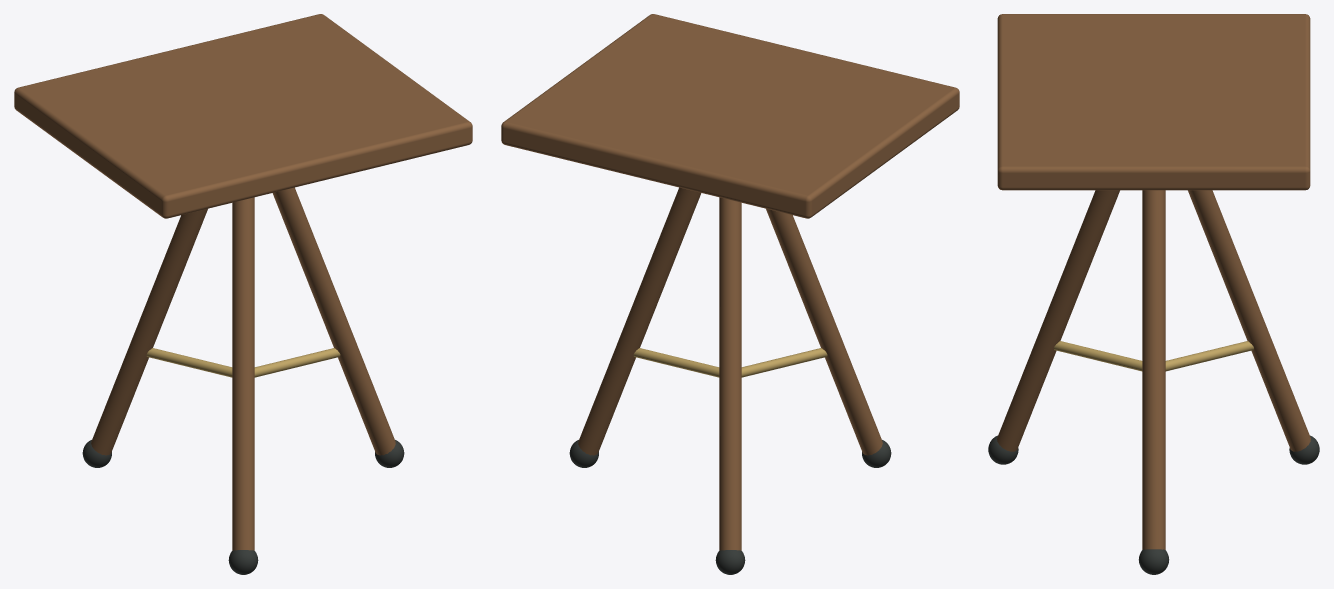
File: fantasy-cartographers-map-printing-guild-survey-plane--149f525f__32234.glb
3 renders of one model, left to right at view 1: azimuth 30°, elevation 25°; view 2: azimuth 150°, elevation 25°; view 3: azimuth 270°, elevation 25°, orthographic. The views are drawn at different scales.
Parts seen in each view (by area): view 1: survey-plane-table; view 2: survey-plane-table; view 3: survey-plane-table.
Boxes of the visible parts, x1,y1,x2,y2 form: survey-plane-table: [14, 14, 472, 574]; survey-plane-table: [501, 14, 959, 574]; survey-plane-table: [988, 14, 1319, 574].
Size of the model in its own units: 0.86 by 1.04 by 0.7628.
